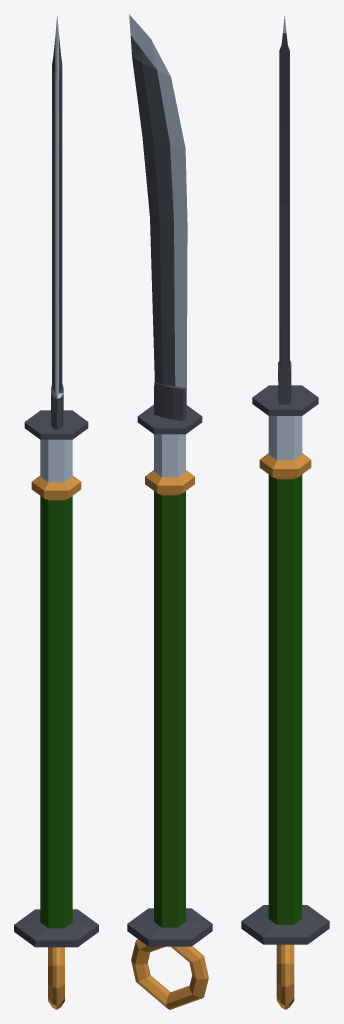
The model's file is Weapon_2 Asia.fbx.
The picture shows the model from 3 angles, left to right: view 1: azimuth 90°, elevation 25°; view 2: azimuth 150°, elevation 25°; view 3: azimuth 270°, elevation 25°; orthographic projection. The views are drawn at different scales.
Visible parts, largest first — view 1: Weapon_2; view 2: Weapon_2; view 3: Weapon_2.
Part boxes in pixels (left/top/right/bottom): Weapon_2: left=14, top=15, right=98, bottom=1009; Weapon_2: left=127, top=14, right=212, bottom=1009; Weapon_2: left=241, top=15, right=329, bottom=1009.
Bounding box in the file's own units: 0.0934 × 1.1 × 0.0865.
